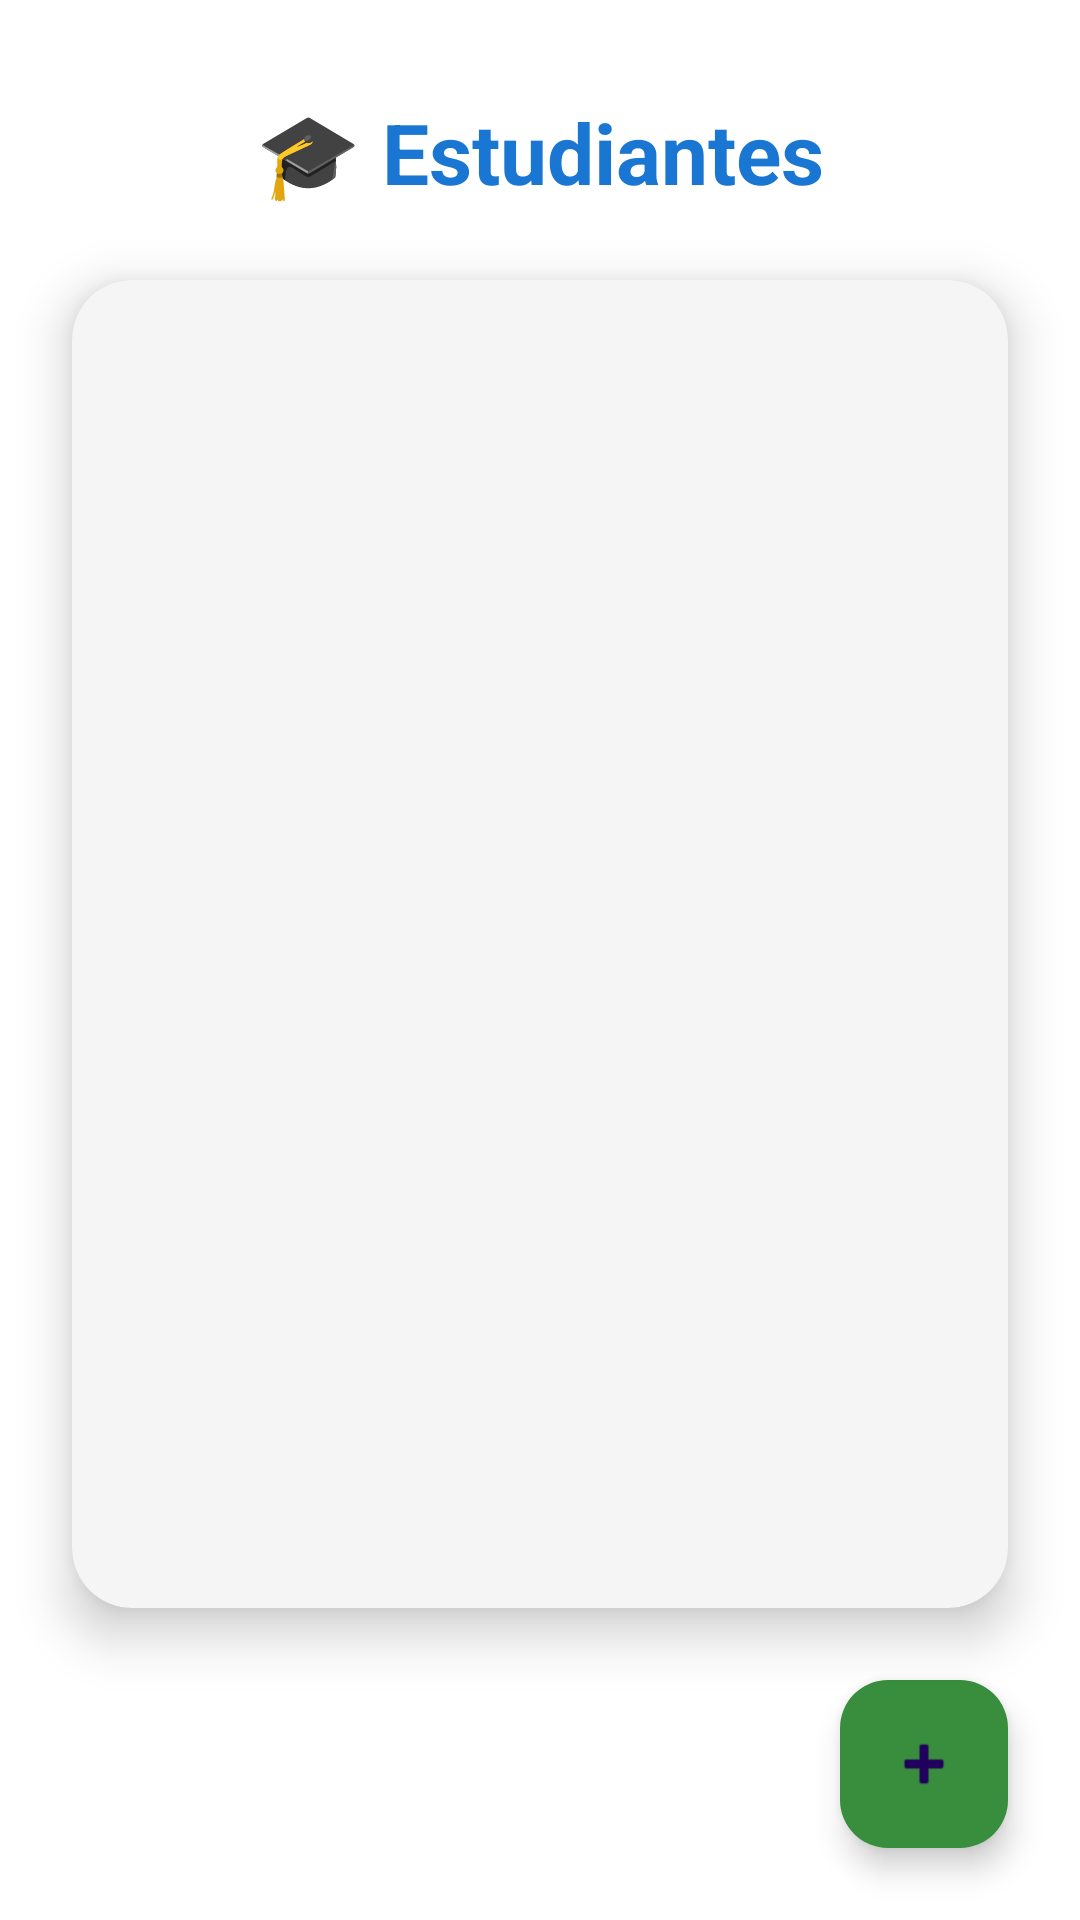

Icons on this 1080px×1920px Android screen, each with the point to tap as point (x, y):
Agregar estudiante: point (924, 1764)
